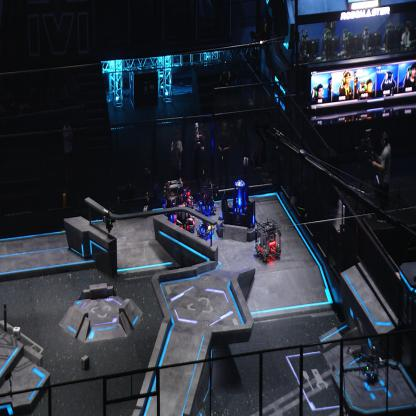car: (254, 216, 281, 264), (162, 181, 186, 222), (195, 177, 216, 216), (174, 202, 195, 233), (196, 211, 214, 240), (179, 187, 194, 210)
